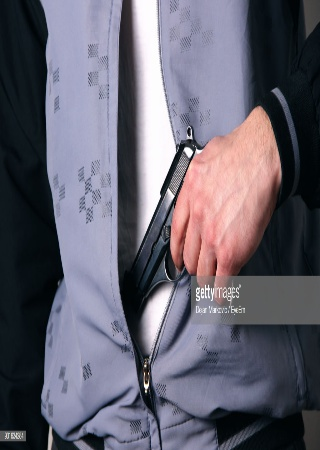handgun: (117, 119, 201, 329)
